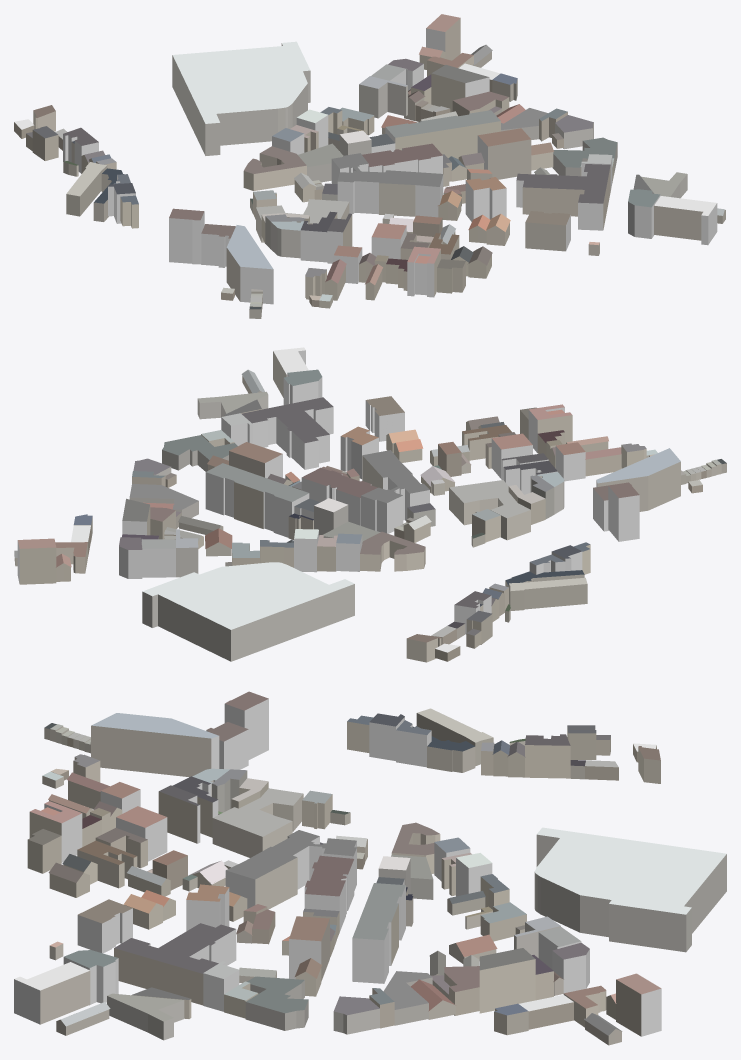
3 renders of one model, top to bottom at view 1: azimuth 30°, elevation 25°; view 2: azimuth 150°, elevation 25°; view 3: azimuth 270°, elevation 25°, orthographic. The views are drawn at different scales.
Visible parts, largest first — view 1: tuile; view 2: tuile; view 3: tuile.
Boxes of the visible parts, bbox=[...] form: tuile: bbox=[14, 14, 725, 318]; tuile: bbox=[14, 347, 726, 662]; tuile: bbox=[14, 691, 726, 1045].
Bounding box in the file's own units: 274 × 36.73 × 285.
